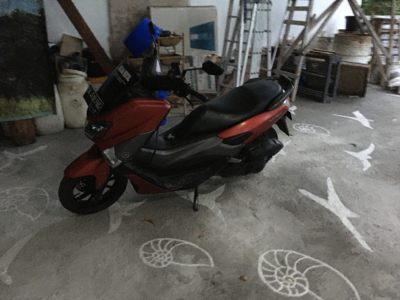moto: (56, 36, 295, 210)
